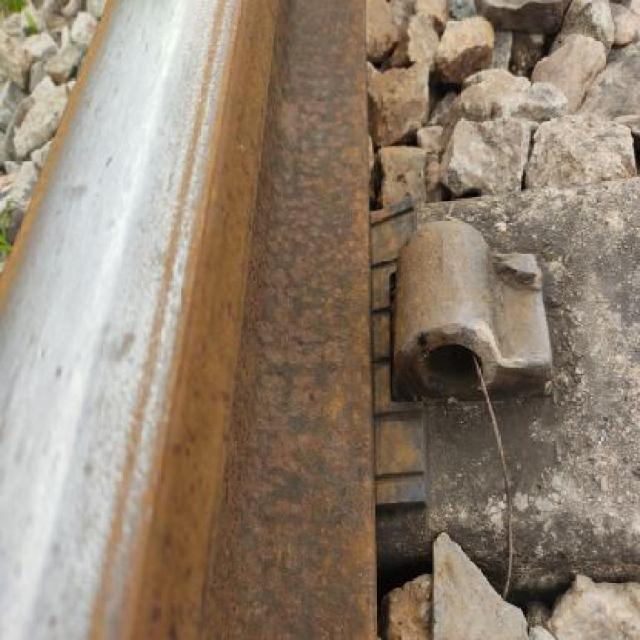non-defective: (20, 13, 334, 629)
